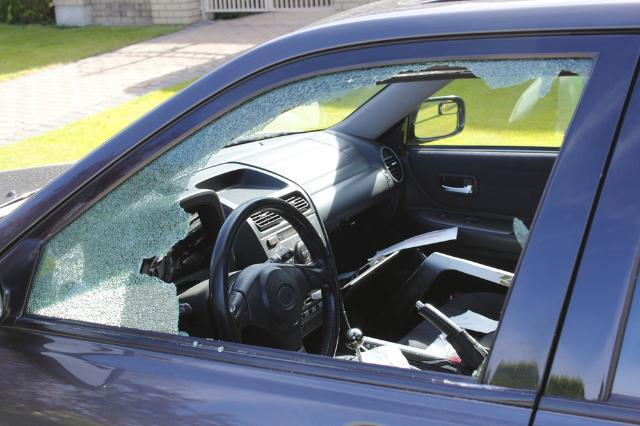glass shatter: (26, 57, 596, 377)
